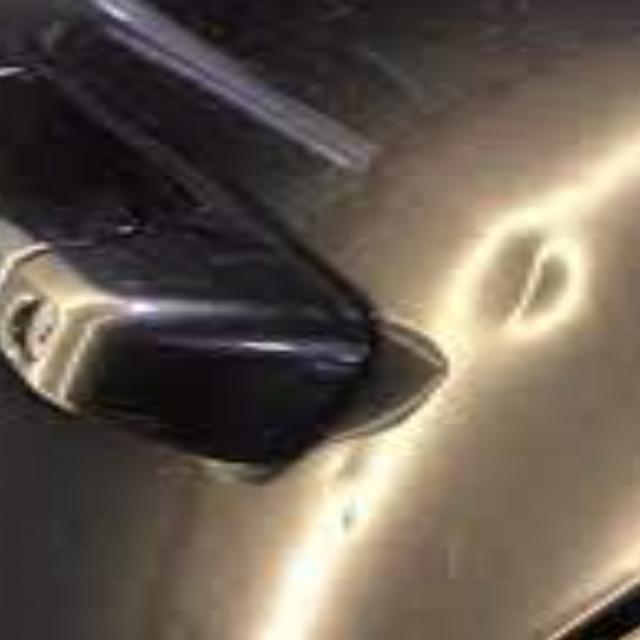dents: (439, 232, 640, 340)
